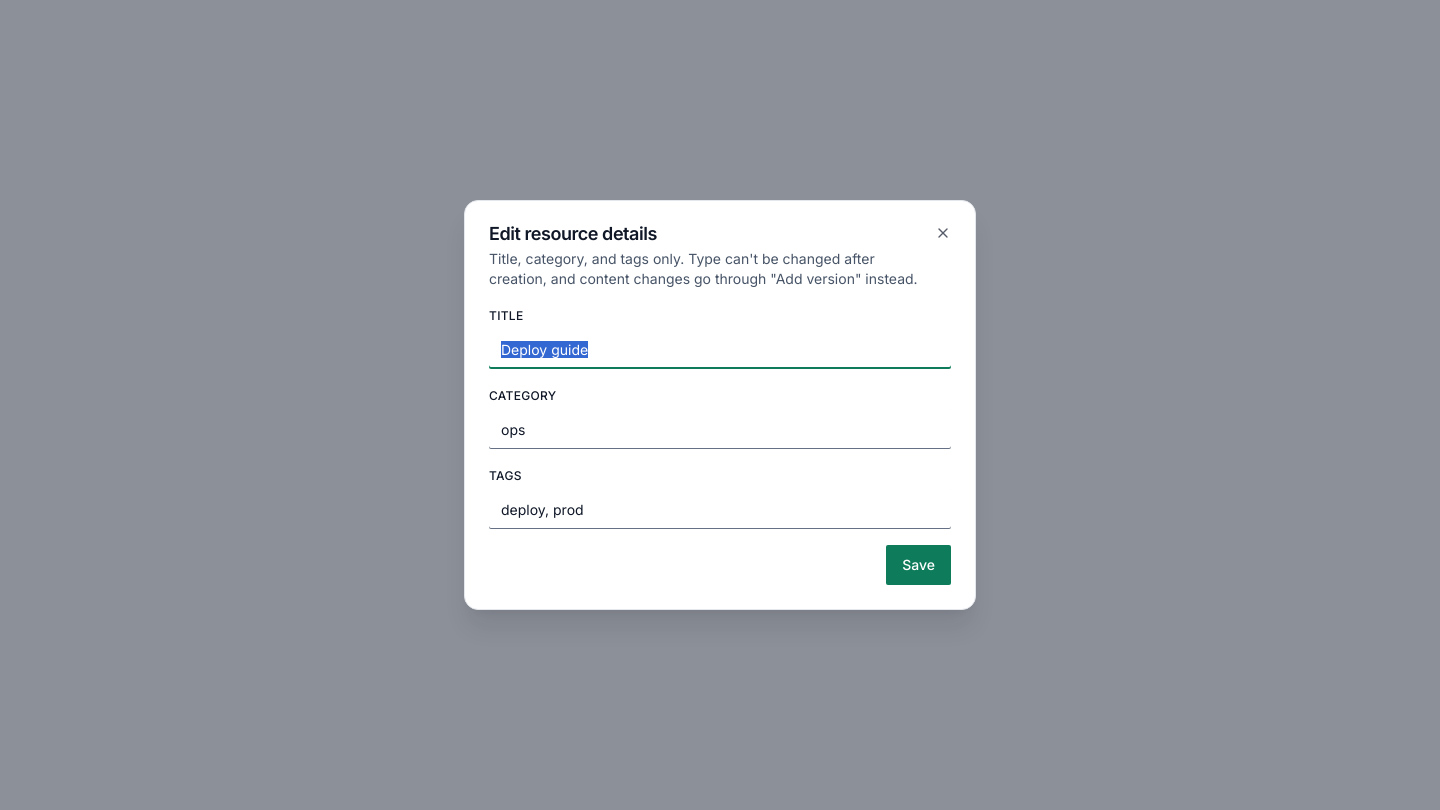
Scenario: ResourceMetadataDialog › has no duplicate-constraint field routing for a 409 — resources.service.ts's updateMetadata has no uniqueness check, so every 409 here is a stale-write conflict
Click the button "Save" at (919, 565), box [886,545,951,585]
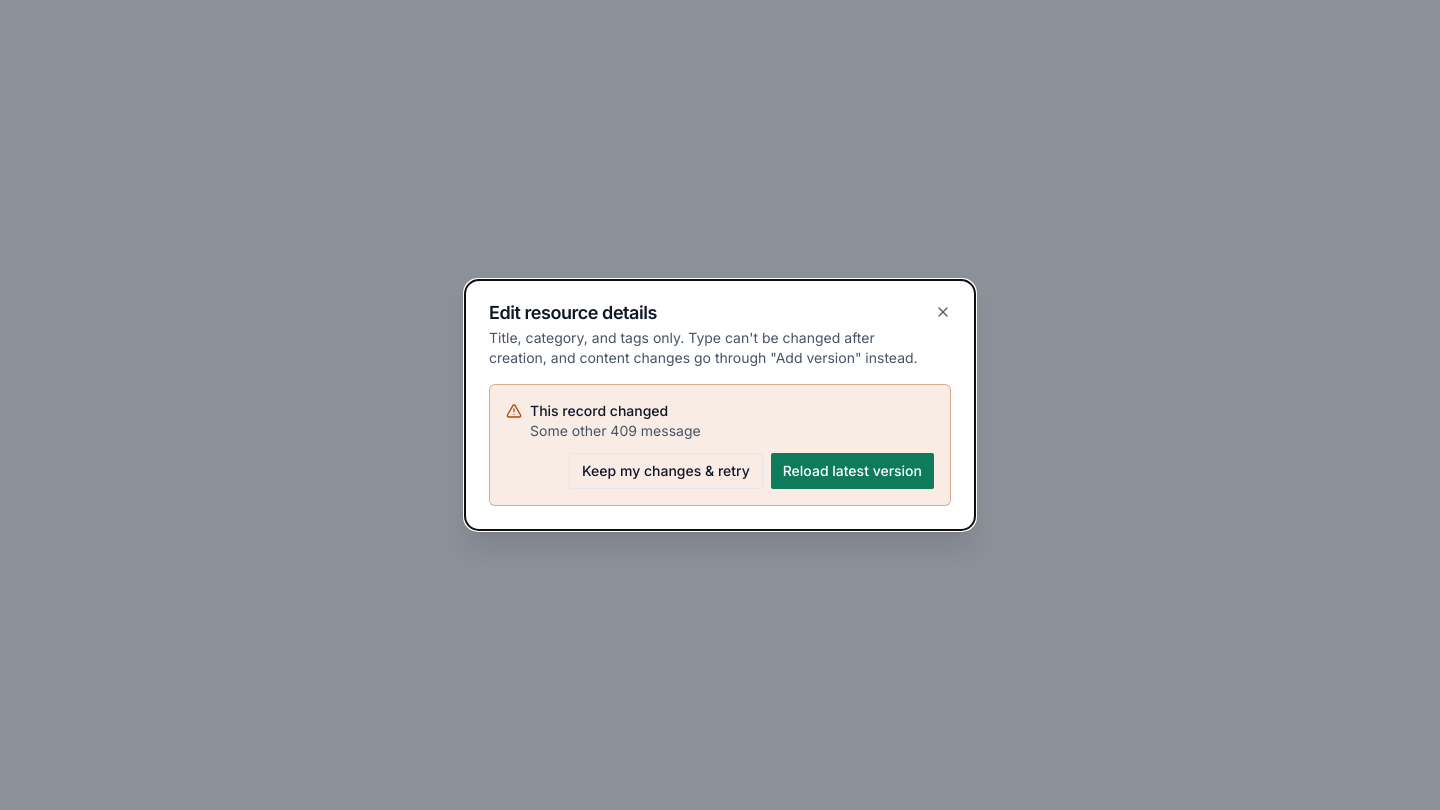
Check: the text "This record changed" is shown, box [530,402,668,419]
Check: the text "Some other 409 message" is shown, box [530,421,701,441]
